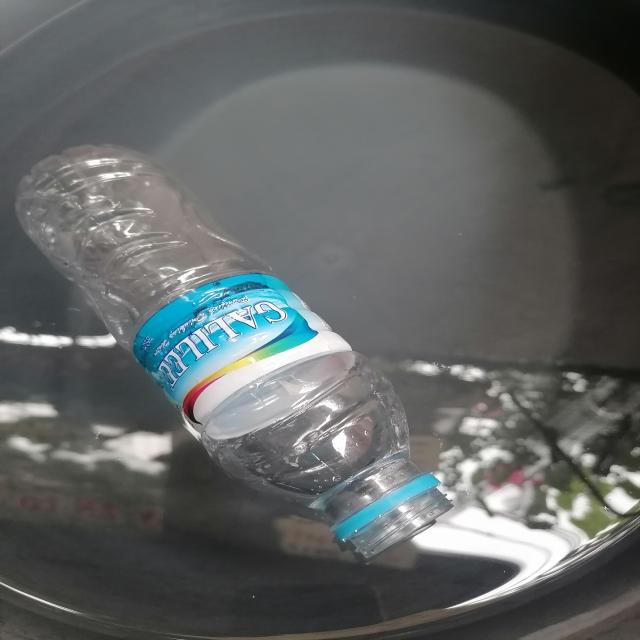Plastic Bottle: (0, 124, 471, 571)
